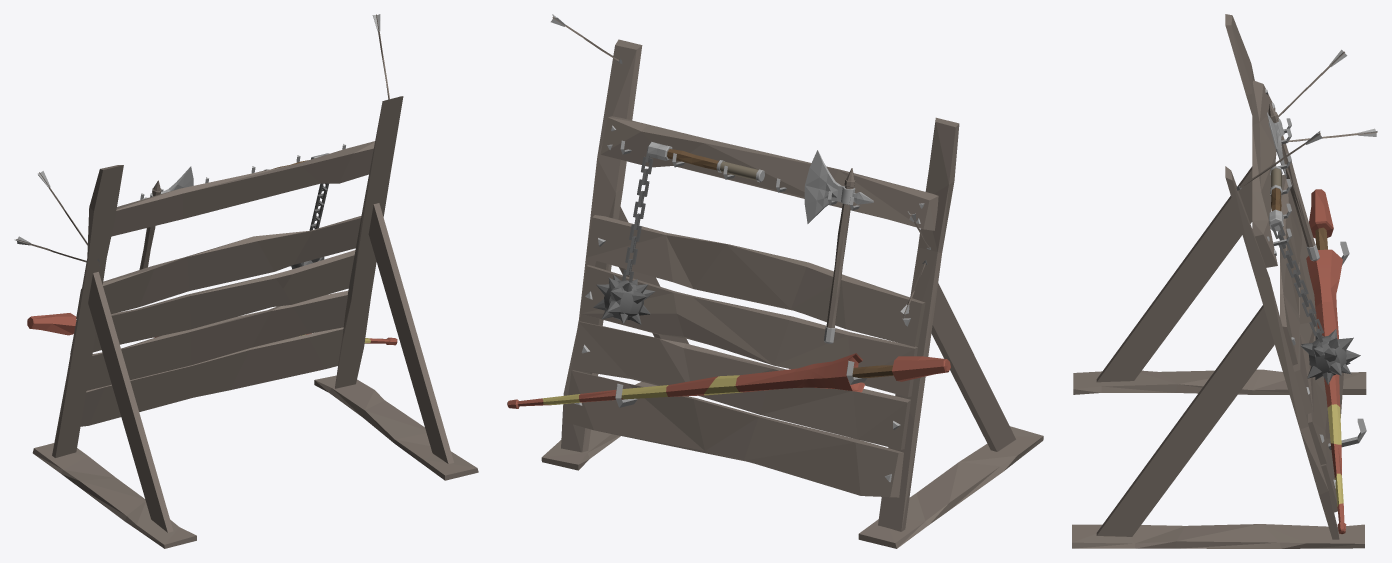
File: ratelier_blocking.fbx
3 views of the same model, side by side, from view 1: azimuth 30°, elevation 25°; view 2: azimuth 150°, elevation 25°; view 3: azimuth 270°, elevation 25° (orthographic). The views are drawn at different scales.
Visible parts, largest first — view 1: ratelier2, weapons; view 2: ratelier2, weapons; view 3: ratelier2, weapons.
Boxes of the visible parts, <box> form: ratelier2: <box>14,14,478,548</box>; weapons: <box>27,153,397,345</box>; ratelier2: <box>541,14,1043,548</box>; weapons: <box>507,142,950,408</box>; ratelier2: <box>1072,14,1377,548</box>; weapons: <box>1266,103,1360,534</box>.
Bounding box in the file's own units: 3.73 × 3.55 × 2.33.
